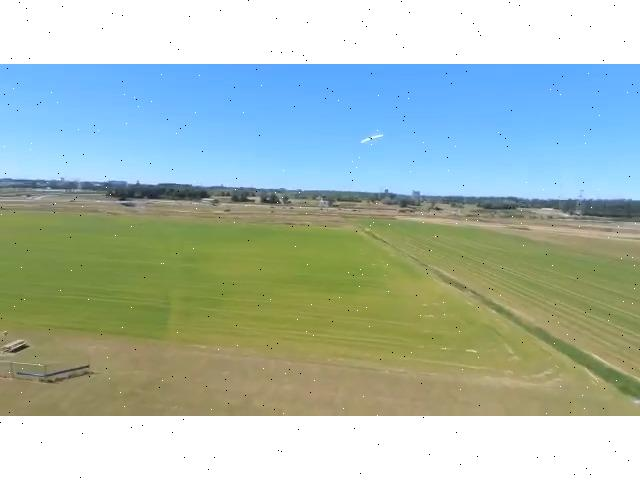Anti-Drone: (354, 125, 392, 149)
